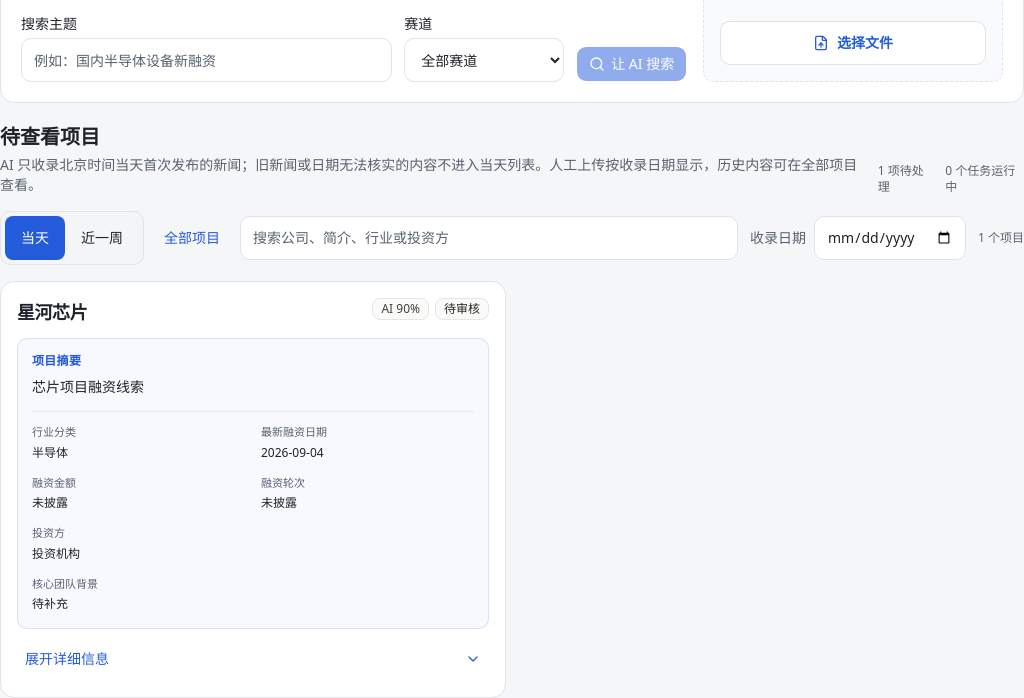
keeps failures inside the dialog without showing an admitted badge
(page scrolled)
Click the button with aria-label "查看项目详情" at (67, 658), box [17, 637, 489, 681]
(page scrolled)
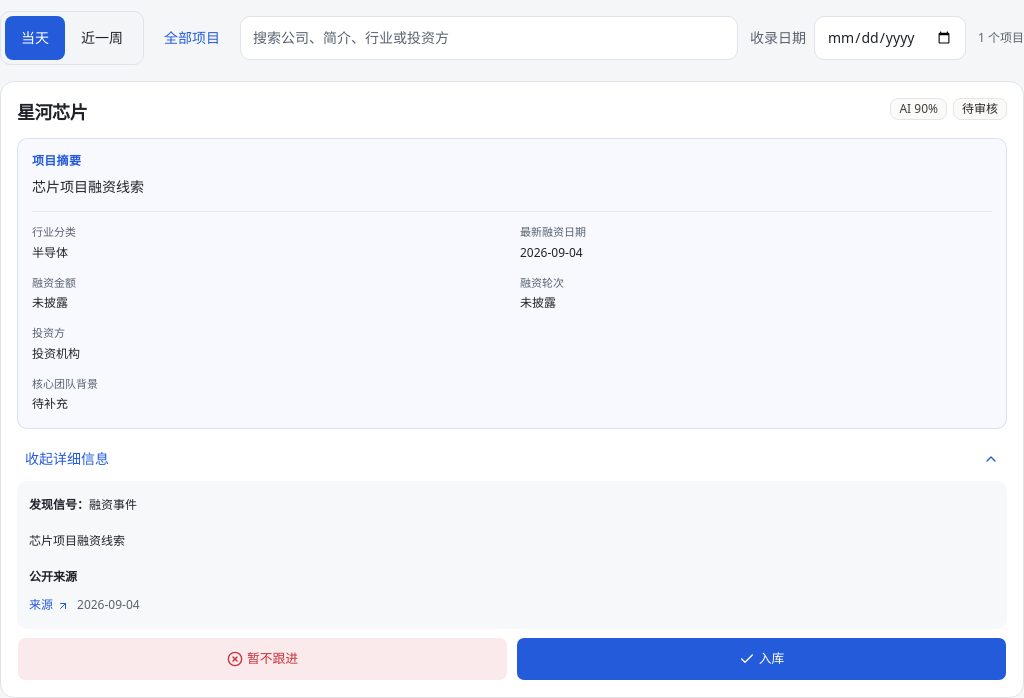
Click the button "入库" at (762, 659), box [516, 637, 1007, 681]
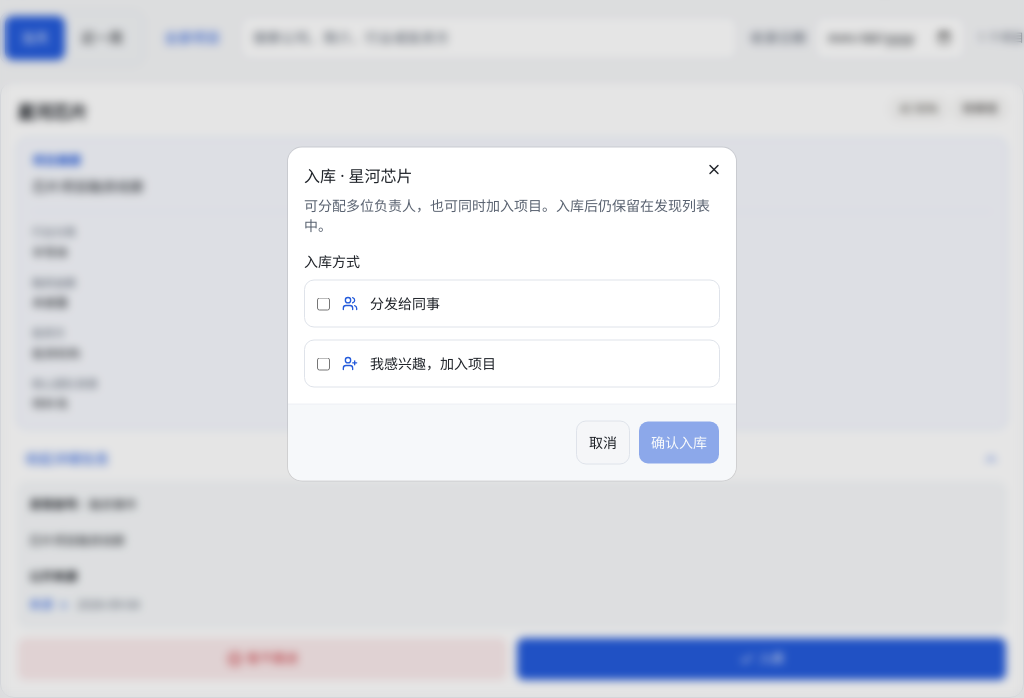
Click the checkbox labelled "我感兴趣，加入项目" at (324, 364), box [317, 357, 330, 370]
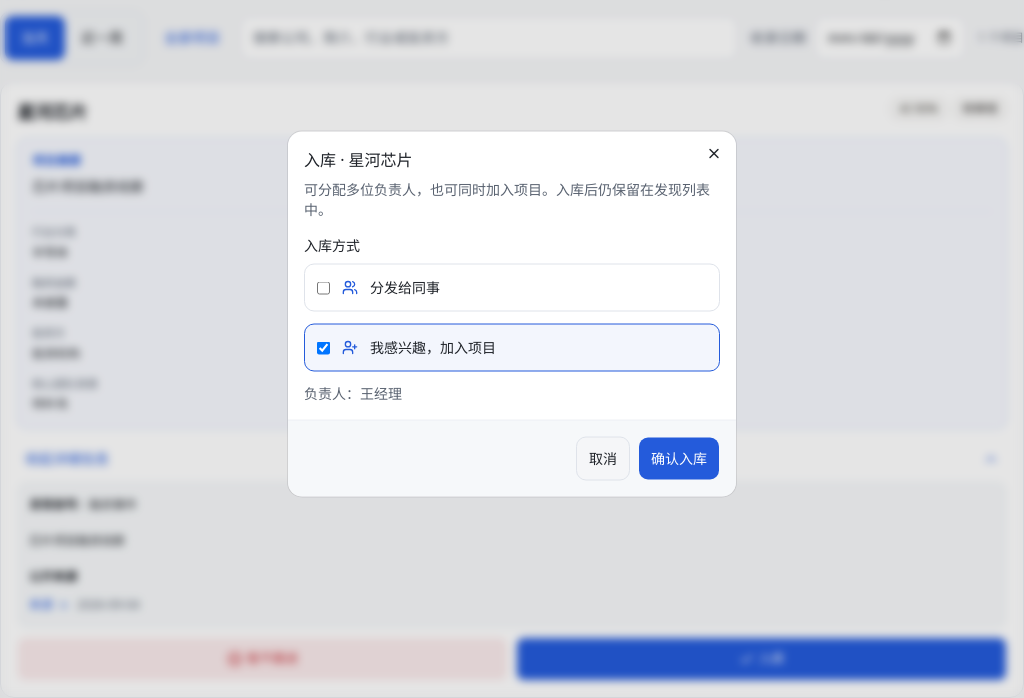
Click the button "确认入库" at (679, 458), box [638, 436, 720, 480]
(page scrolled)
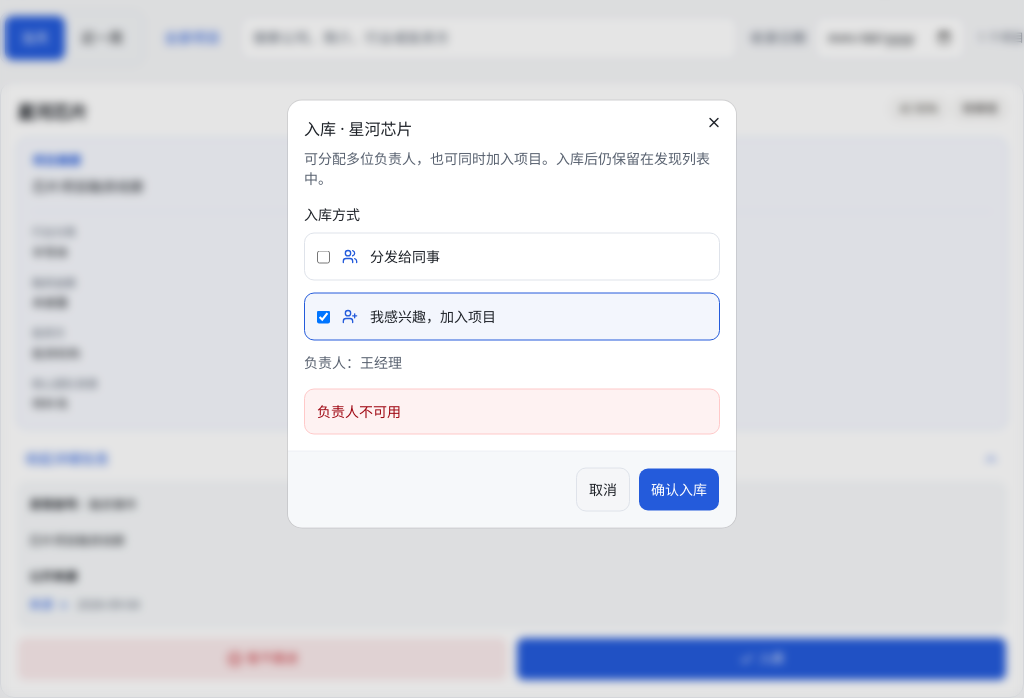
Now the message reads "负责人不可用", box [317, 402, 401, 420]
